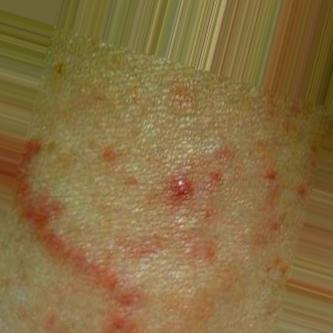Fleas: (0, 149, 145, 331), (167, 177, 195, 209), (198, 244, 216, 259), (263, 166, 277, 179), (102, 146, 112, 159), (298, 186, 307, 198)
